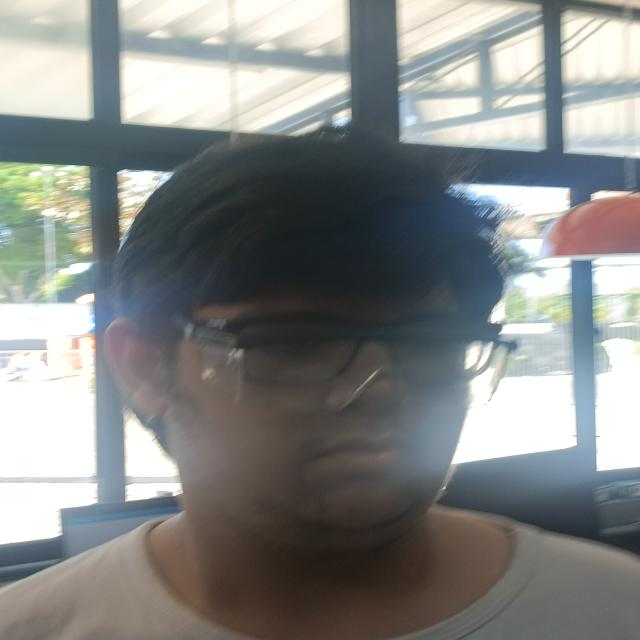oculos-epi: (163, 314, 517, 414)
